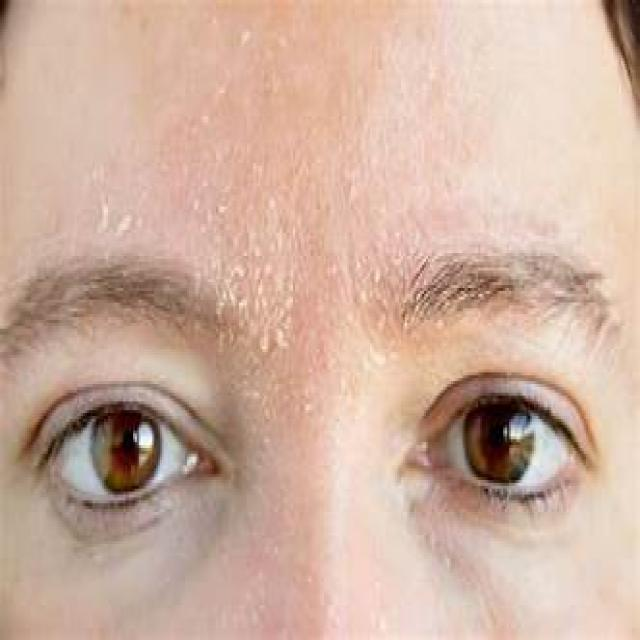Dry-Skin: (0, 0, 640, 230), (222, 229, 372, 488)
